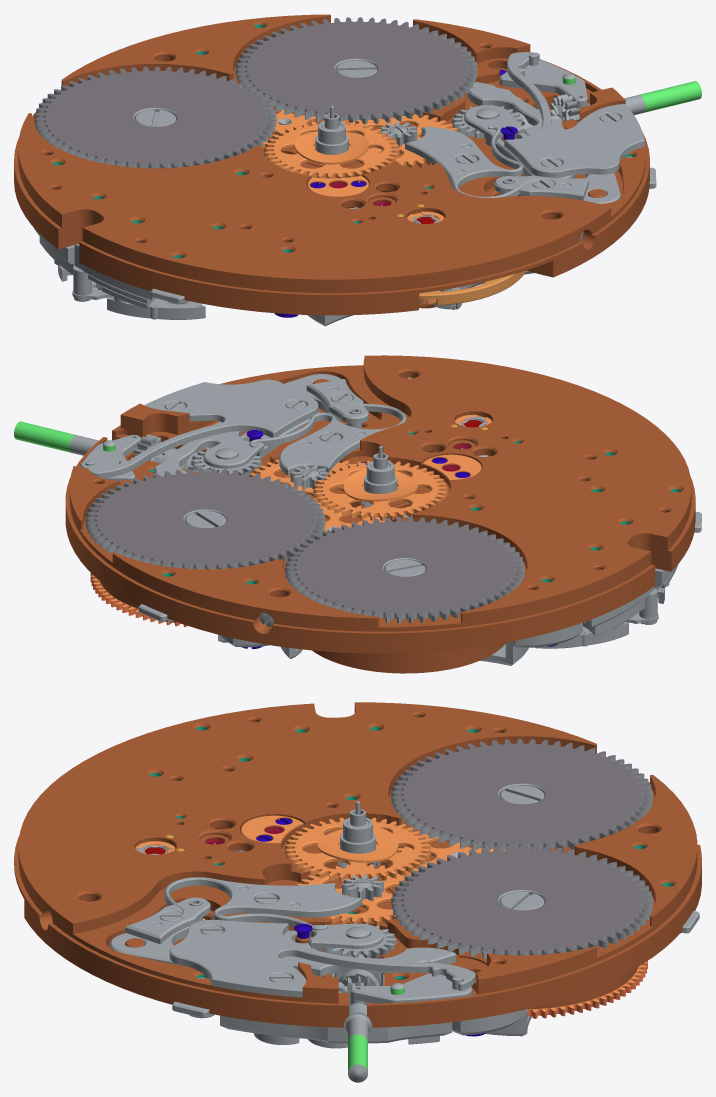
The model's file is 001_ml01_Werk_montiert_einbaufertig.glb.
3 renders of one model, top to bottom at view 1: azimuth 30°, elevation 25°; view 2: azimuth 150°, elevation 25°; view 3: azimuth 270°, elevation 25°, orthographic. The views are drawn at different scales.
Parts seen in each view (by area): view 1: ml01 Grundplatine, ml01 Sperrrad z62 m0,20 (×2), ml01 Winkelhebelfeder, ml01 Winkelhebelfeder 2 Positionen, ml01 Zeigerstellungsfeder, ml01 Stundenrad1 z40 m0,17, ml01 Kupplungshebel, ml01 Winkelhebel, ml01 Aufzugwelle, ml01 Stoppfederplatte, ml01 Zeigerstellhebel, ml01 Unruhreif (+14 smaller); view 2: ml01 Grundplatine, ml01 Sperrrad z62 m0,20 (×2), ml01 Winkelhebelfeder, ml01 Zeigerstellungsfeder, ml01 Stundenrad1 z40 m0,17, ml01 Winkelhebelfeder 2 Positionen, ml01 Federhaustrommel II z80 m0,15, ml01 Federhausbrücke, ml01 Kupplungshebel, ml01 Aufzugwelle, ml01 Zeigerstellhebel, ml01 Stoppfederplatte (+12 smaller); view 3: ml01 Grundplatine, ml01 Sperrrad z62 m0,20 (×2), ml01 Winkelhebelfeder, ml01 Zeigerstellungsfeder, ml01 Winkelhebelfeder 2 Positionen, ml01 Stundenrad1 z40 m0,17, ml01 Aufzugsbrücke, ml01 Kupplungshebel, ml01 Winkelhebel, ml01 Federhaustrommel I z80 m0,15, ml01 Stoppfederplatte, ml01 Wechselrad1 z36 m0,177 (+10 smaller).
Part boxes in pixels (box(x1,y1,x2,y2)): ml01 Grundplatine: box(14, 14, 649, 315); ml01 Sperrrad z62 m0,20 (×2): box(34, 17, 477, 168); ml01 Winkelhebelfeder: box(504, 52, 644, 177); ml01 Winkelhebelfeder 2 Positionen: box(504, 52, 643, 177); ml01 Zeigerstellungsfeder: box(405, 125, 540, 197); ml01 Stundenrad1 z40 m0,17: box(264, 120, 399, 178); ml01 Kupplungshebel: box(466, 82, 620, 203); ml01 Winkelhebel: box(499, 59, 587, 108); ml01 Aufzugwelle: box(551, 81, 701, 121); ml01 Stoppfederplatte: box(494, 175, 588, 200); ml01 Zeigerstellhebel: box(464, 105, 575, 178); ml01 Unruhreif: box(419, 270, 526, 305); ml01 Grundplatine: box(65, 355, 695, 653); ml01 Sperrrad z62 m0,20 (×2): box(85, 468, 524, 623); ml01 Winkelhebelfeder: box(80, 379, 318, 478); ml01 Zeigerstellungsfeder: box(249, 400, 406, 475); ml01 Stundenrad1 z40 m0,17: box(313, 460, 447, 520); ml01 Winkelhebelfeder 2 Positionen: box(81, 380, 318, 478); ml01 Federhaustrommel II z80 m0,15: box(312, 642, 505, 673); ml01 Federhausbrücke: box(218, 622, 582, 665); ml01 Kupplungshebel: box(152, 374, 341, 478); ml01 Aufzugwelle: box(14, 421, 198, 471); ml01 Zeigerstellhebel: box(203, 411, 319, 468); ml01 Stoppfederplatte: box(306, 379, 368, 423); ml01 Grundplatine: box(14, 702, 701, 1027); ml01 Sperrrad z62 m0,20 (×2): box(391, 738, 652, 958); ml01 Winkelhebelfeder: box(169, 919, 475, 997); ml01 Zeigerstellungsfeder: box(164, 877, 361, 930); ml01 Winkelhebelfeder 2 Positionen: box(170, 920, 475, 996); ml01 Stundenrad1 z40 m0,17: box(285, 817, 430, 882); ml01 Aufzugsbrücke: box(220, 973, 452, 1043); ml01 Kupplungshebel: box(109, 926, 455, 976); ml01 Winkelhebel: box(350, 973, 471, 1004); ml01 Federhaustrommel I z80 m0,15: box(527, 961, 647, 1018); ml01 Stoppfederplatte: box(125, 897, 210, 944); ml01 Wechselrad1 z36 m0,177: box(297, 864, 410, 925).
Bounding box in the file's own units: 0.0397 × 0.00847 × 0.0339.
